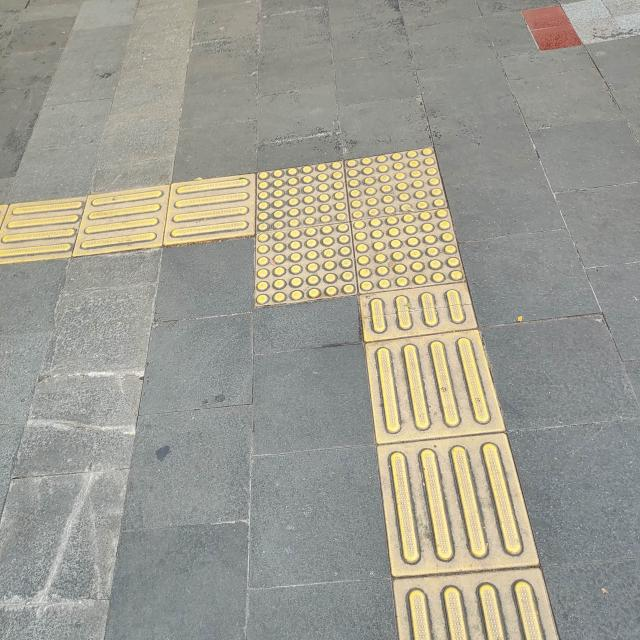kiri: (123, 111, 552, 380)
